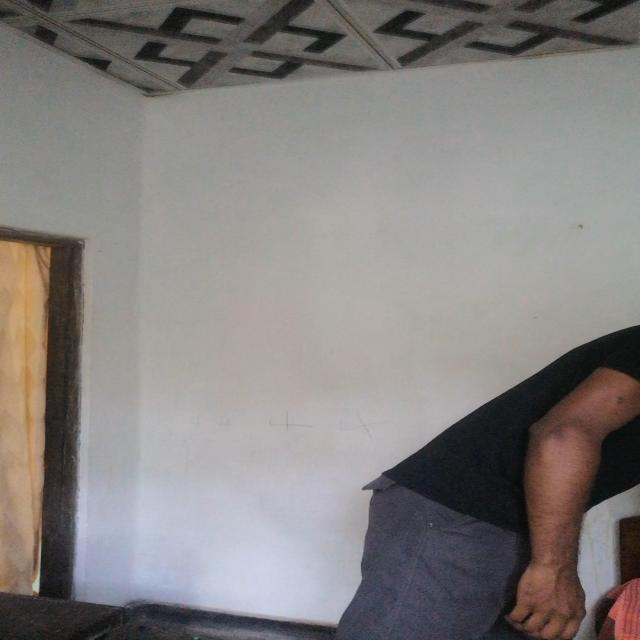Person: (326, 258, 640, 640)
